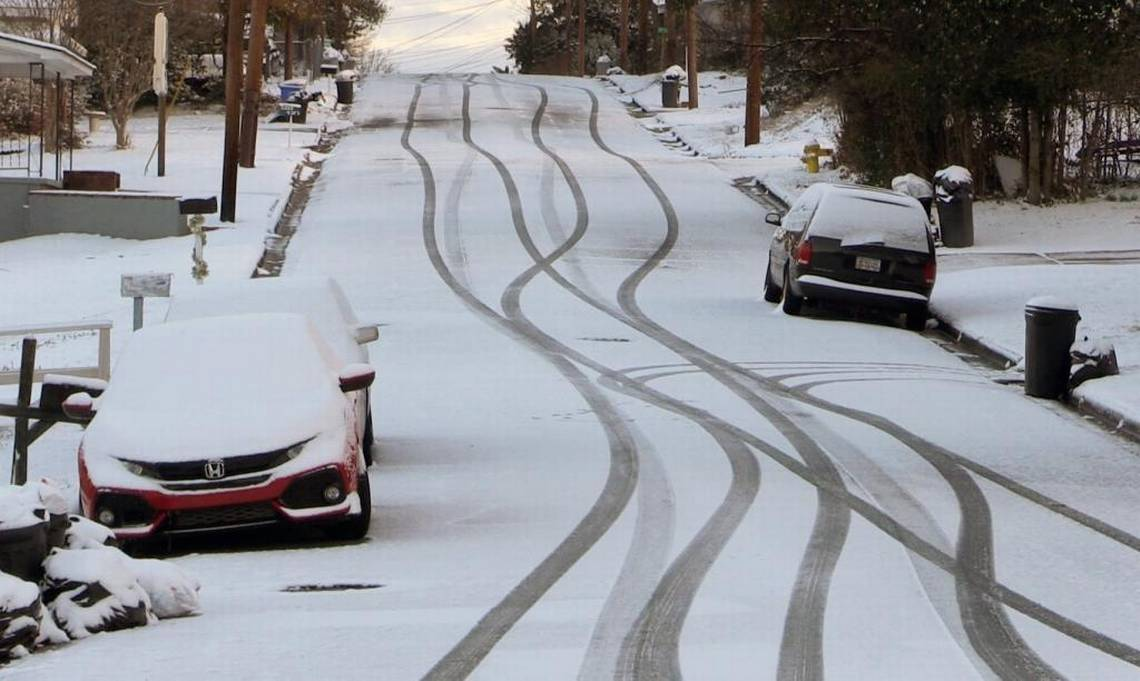car: (82, 319, 376, 539), (762, 179, 937, 321)
